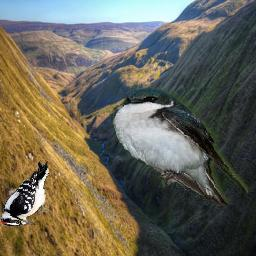Swallow: (108, 82, 248, 206)
Woodpecker: (1, 162, 50, 227)
